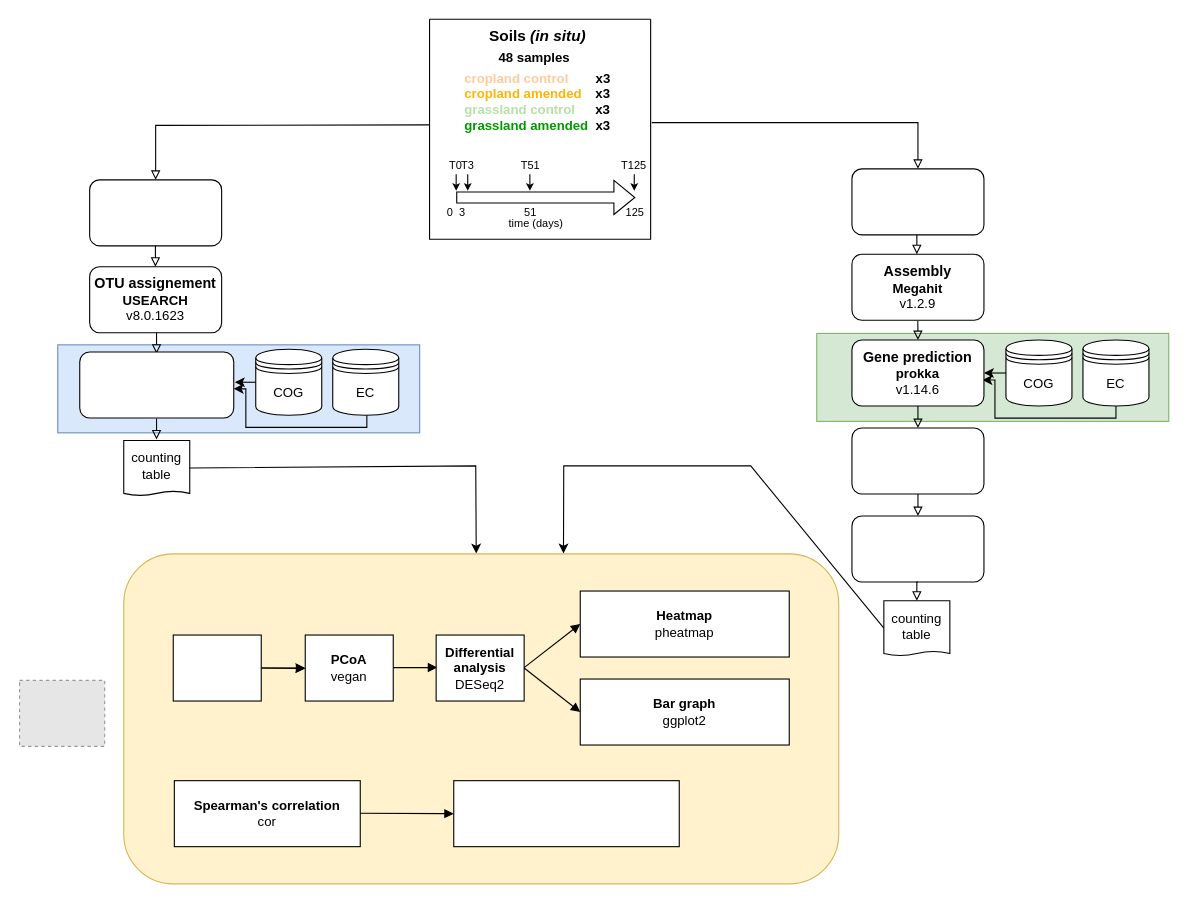
Image size: 1188x903. Some labels were removed from this diagram. Grey dashed boxes stand in for pictures. The shapes that lost their labels are listed below. From the top down, each one's centre as x and y in pixels, then its label:
the point at 155,212: Sequencing Roche 454 450bp
the point at 917,201: Sequencing Illumina NovaSeq 2x150bp
the point at 156,384: Functional inference PICRUSt2 v2.5.3
the point at 917,460: Mapping on genes BOWTIE2 v2.4.4
the point at 917,548: Counting bamtocov v2.6.1
the point at 216,667: Normalize VST
the point at 566,813: Box plot ggplot2
